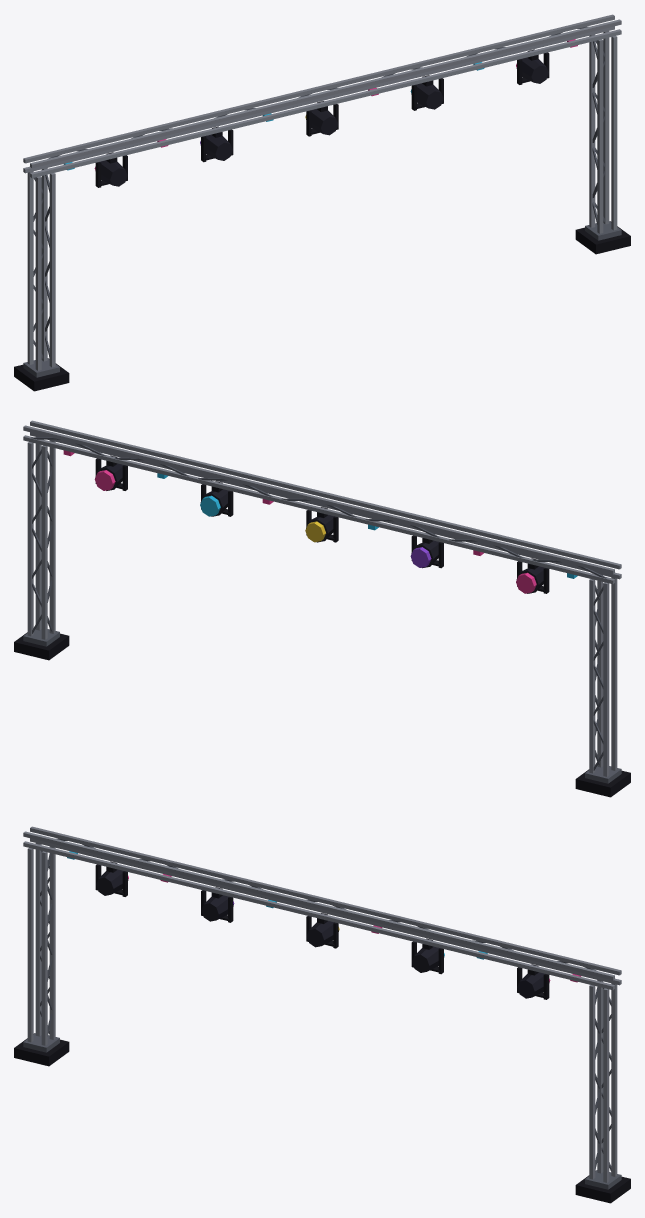
File: Decor_DJStage_LightTruss.fbx
The picture shows the model from 3 angles, top to bottom: view 1: azimuth 30°, elevation 25°; view 2: azimuth 150°, elevation 25°; view 3: azimuth 330°, elevation 25°; orthographic projection.
Visible parts, largest first — view 1: LightTruss_Body; view 2: LightTruss_Body; view 3: LightTruss_Body.
Part boxes in pixels (x1=…): LightTruss_Body: x1=14, y1=14, x2=630, y2=391; LightTruss_Body: x1=14, y1=420, x2=630, y2=797; LightTruss_Body: x1=14, y1=826, x2=630, y2=1203.
Bounding box in the file's own units: 51 × 18.1 × 3.
